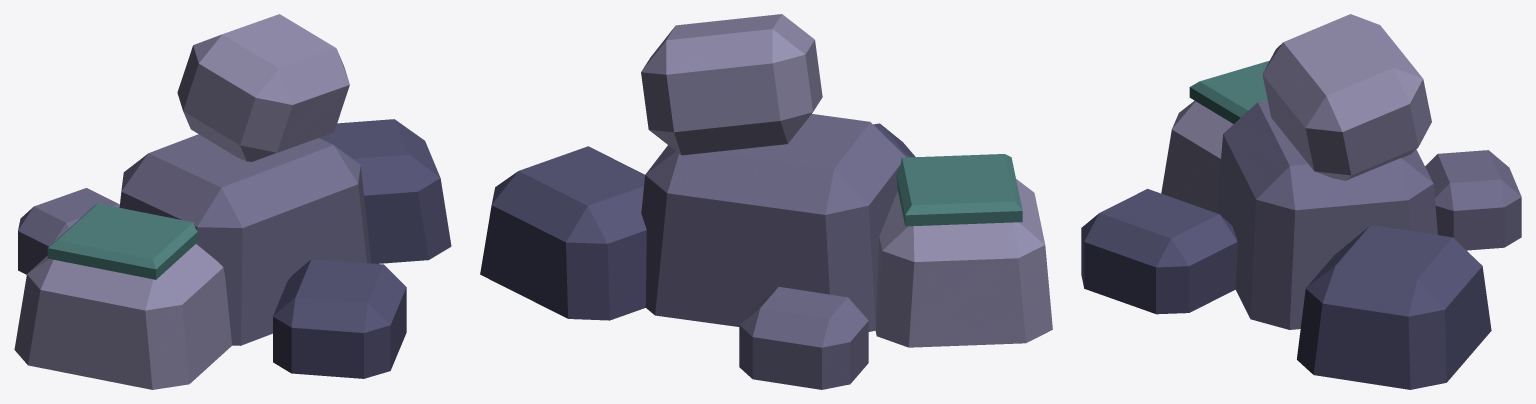
Rendered from rubble.glb.
3 views of the same model, side by side, from view 1: azimuth 30°, elevation 25°; view 2: azimuth 150°, elevation 25°; view 3: azimuth 270°, elevation 25° (orthographic). The views are drawn at different scales.
Visible parts, largest first — view 1: rubble; view 2: rubble; view 3: rubble.
Boxes of the visible parts, x1,y1,x2,y2 form: rubble: [14, 14, 451, 389]; rubble: [480, 14, 1052, 389]; rubble: [1081, 14, 1521, 389].
Bounding box in the file's own units: 1.18 × 0.6013 × 0.9378.
Materials: 1 (1 with a texture image).
